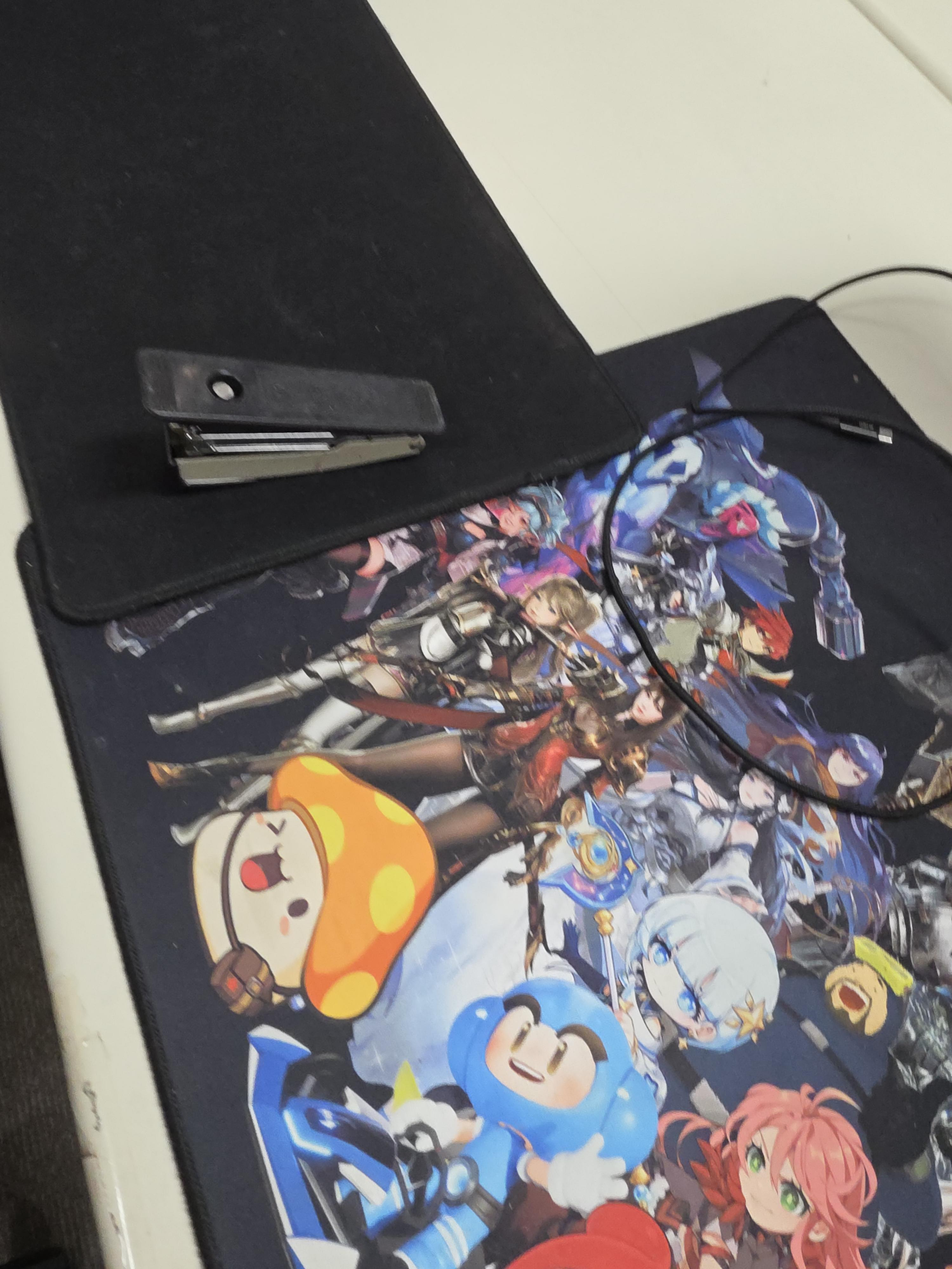stapler: (134, 347, 447, 489)
